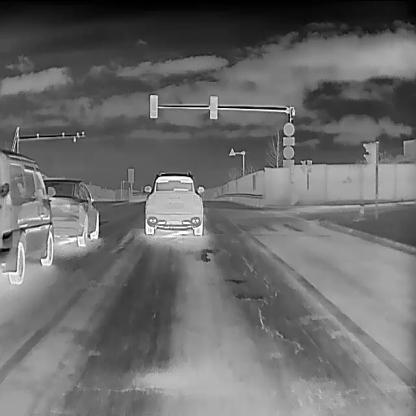car: (0, 148, 56, 283), (38, 176, 98, 245), (143, 169, 203, 236)
